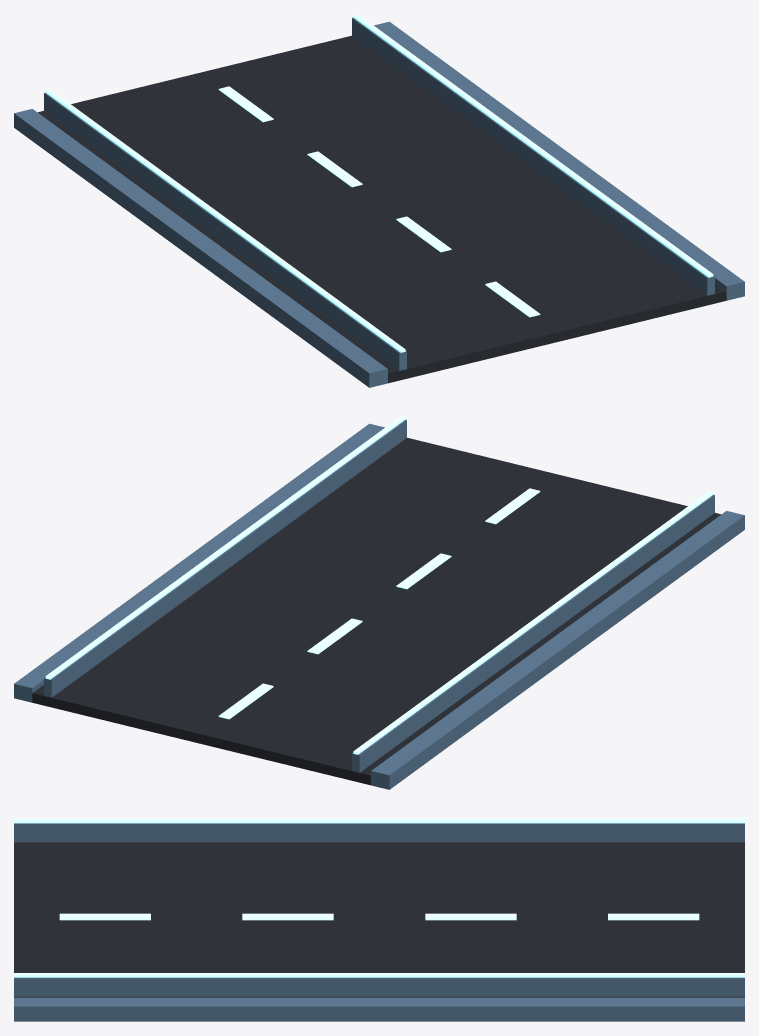
The model's file is road_future_straight.glb.
3 renders of one model, top to bottom at view 1: azimuth 30°, elevation 25°; view 2: azimuth 150°, elevation 25°; view 3: azimuth 270°, elevation 25°, orthographic. The views are drawn at different scales.
Parts seen in each view (by area): view 1: body; view 2: body; view 3: body.
Boxes of the visible parts, x1=… form: body: x1=14, y1=14, x2=744, y2=387; body: x1=14, y1=416, x2=744, y2=789; body: x1=14, y1=818, x2=744, y2=1021.
Size of what is drawn, in the model's own units: 4.88 by 0.37 by 8.
